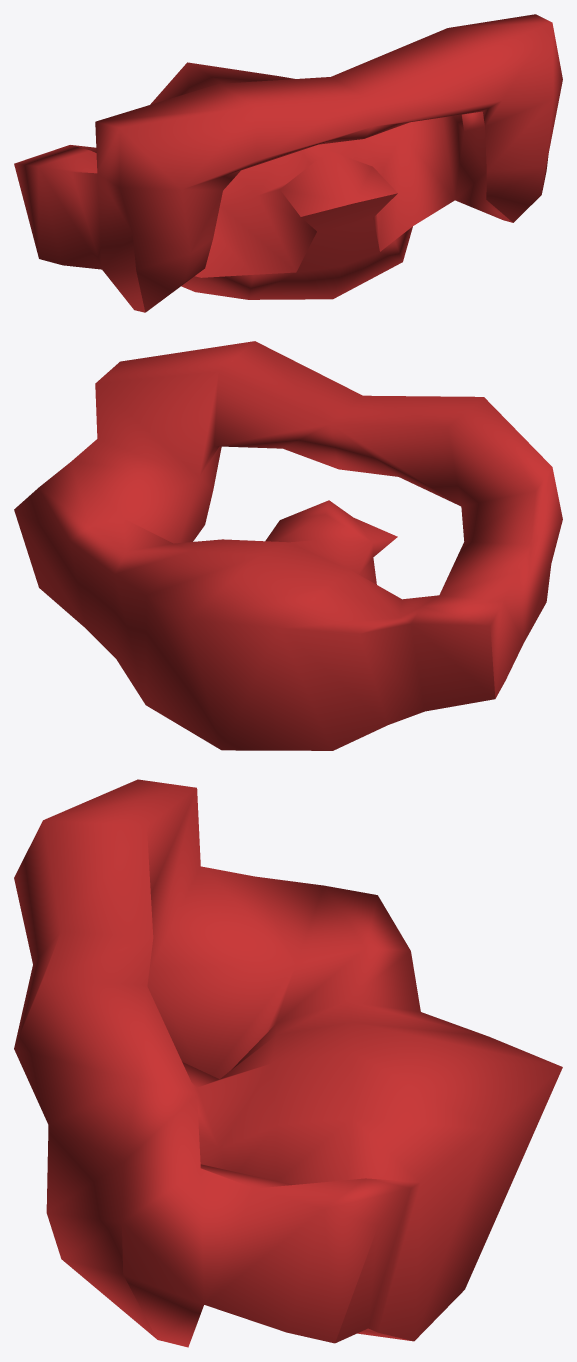
File: Beard_Red_7.fbx
3 renders of one model, top to bottom at view 1: azimuth 30°, elevation 25°; view 2: azimuth 150°, elevation 25°; view 3: azimuth 270°, elevation 25°, orthographic. The views are drawn at different scales.
Visible parts, largest first — view 1: Beard_Red_7; view 2: Beard_Red_7; view 3: Beard_Red_7.
Boxes of the visible parts, bbox=[...] form: Beard_Red_7: bbox=[14, 14, 562, 312]; Beard_Red_7: bbox=[14, 341, 562, 750]; Beard_Red_7: bbox=[14, 779, 562, 1347].
Bounding box in the file's own units: 25.35 × 13.89 × 17.74.
